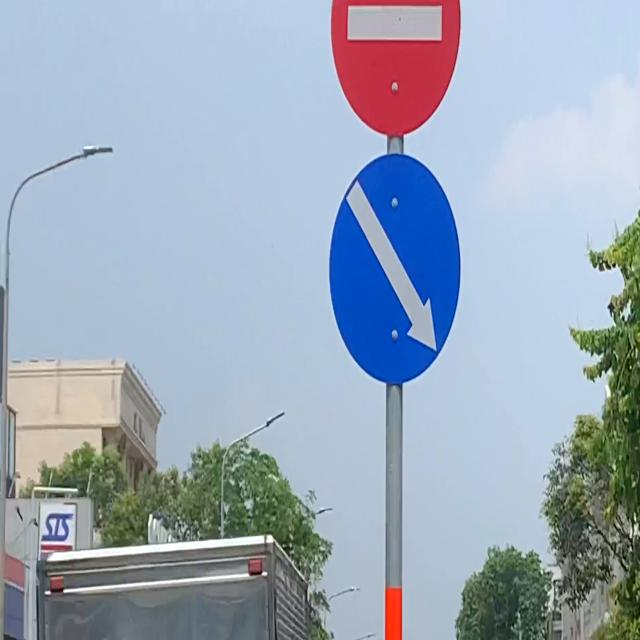Cam nguoc chieu: (329, 0, 468, 138)
Hieu lenh: (326, 144, 466, 390)
